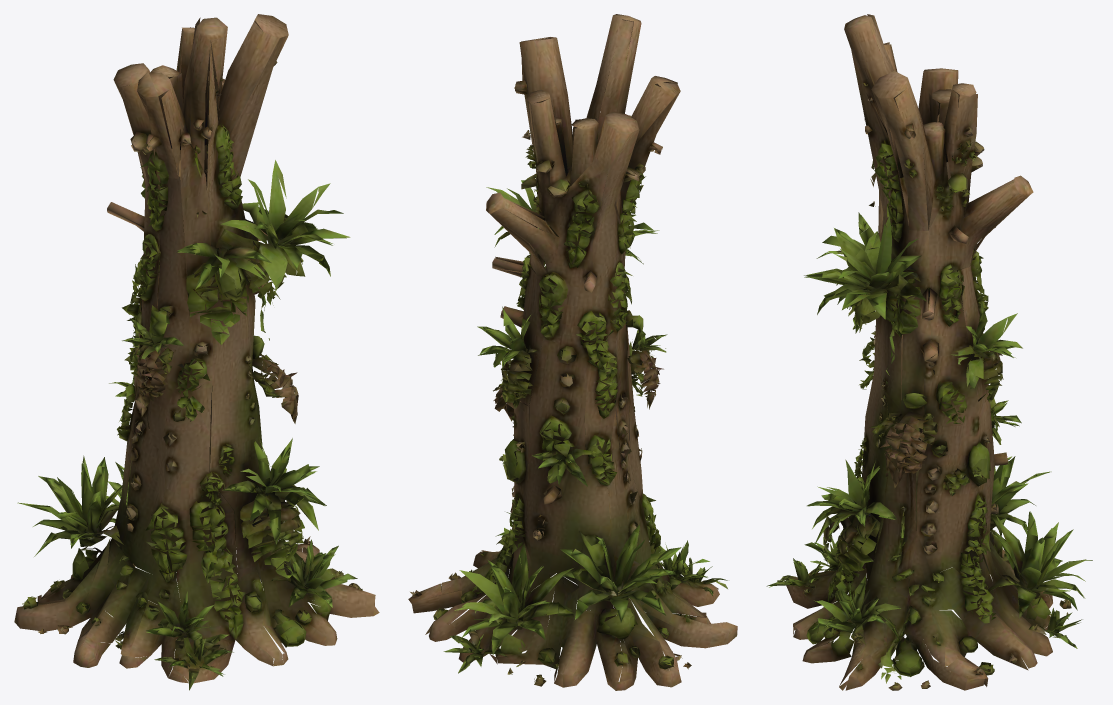
The model's file is jun_mossy_dead_tree_LOD1.glb.
3 renders of one model, left to right at view 1: azimuth 30°, elevation 25°; view 2: azimuth 150°, elevation 25°; view 3: azimuth 270°, elevation 25°, orthographic. The views are drawn at different scales.
Parts seen in each view (by area): view 1: tripo_node_c5806132-b1b8-42ec-9b28-db49bdb041b3; view 2: tripo_node_c5806132-b1b8-42ec-9b28-db49bdb041b3; view 3: tripo_node_c5806132-b1b8-42ec-9b28-db49bdb041b3.
Part boxes in pixels (x1,y1,x2,y2): tripo_node_c5806132-b1b8-42ec-9b28-db49bdb041b3: (14,14,379,690); tripo_node_c5806132-b1b8-42ec-9b28-db49bdb041b3: (408,14,737,690); tripo_node_c5806132-b1b8-42ec-9b28-db49bdb041b3: (766,14,1092,690).
Bounding box in the file's own units: 0.4863 × 0.9997 × 0.4998.
1 material, 1 textured.
